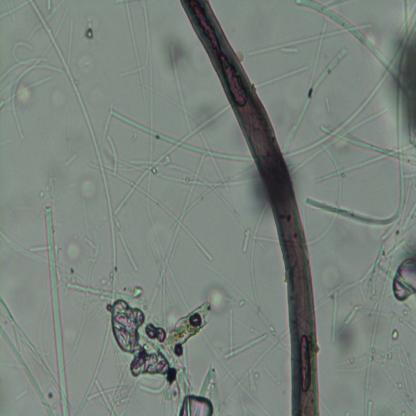Air bubble: (111, 299, 177, 380), (390, 258, 416, 301), (180, 391, 213, 415), (0, 0, 30, 19)
Background material: (82, 13, 97, 41)
Cotton: (180, 1, 321, 415)
Glass filter fibre: (30, 1, 124, 299), (308, 34, 416, 228), (87, 162, 214, 264), (297, 1, 411, 103), (111, 108, 254, 180), (0, 296, 67, 412), (282, 45, 350, 157), (0, 42, 65, 141), (43, 206, 71, 415), (318, 121, 416, 171), (314, 140, 412, 187), (76, 300, 116, 415), (123, 0, 158, 130), (248, 22, 372, 58), (362, 265, 392, 395), (164, 42, 192, 136), (249, 202, 271, 307), (150, 242, 177, 306), (254, 63, 311, 90), (223, 331, 268, 361), (369, 239, 389, 298), (396, 342, 416, 398), (116, 229, 139, 275), (105, 130, 119, 179), (226, 306, 236, 354), (344, 304, 362, 328), (331, 289, 338, 343), (140, 382, 170, 392), (29, 241, 51, 254), (241, 228, 250, 253), (368, 399, 376, 413)
